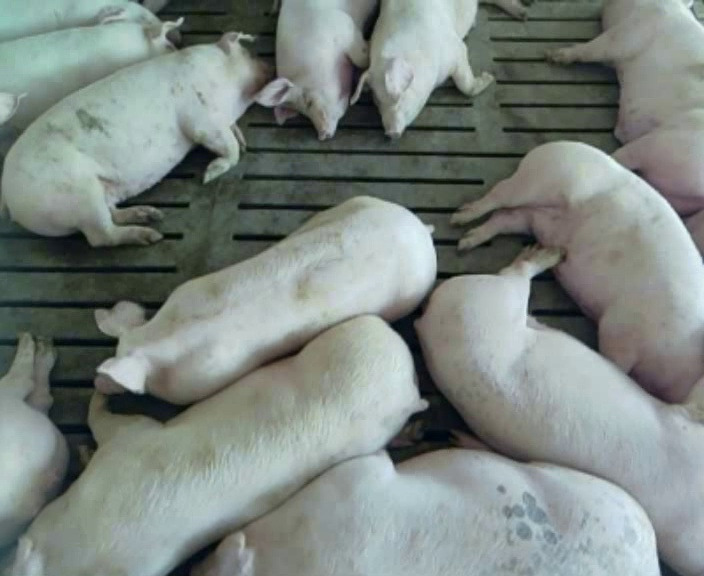pig: (8, 316, 424, 571), (417, 248, 703, 573), (94, 196, 434, 402), (2, 32, 269, 245), (546, 2, 703, 214), (0, 17, 182, 165), (351, 1, 525, 137), (256, 2, 376, 139), (0, 332, 68, 547)
